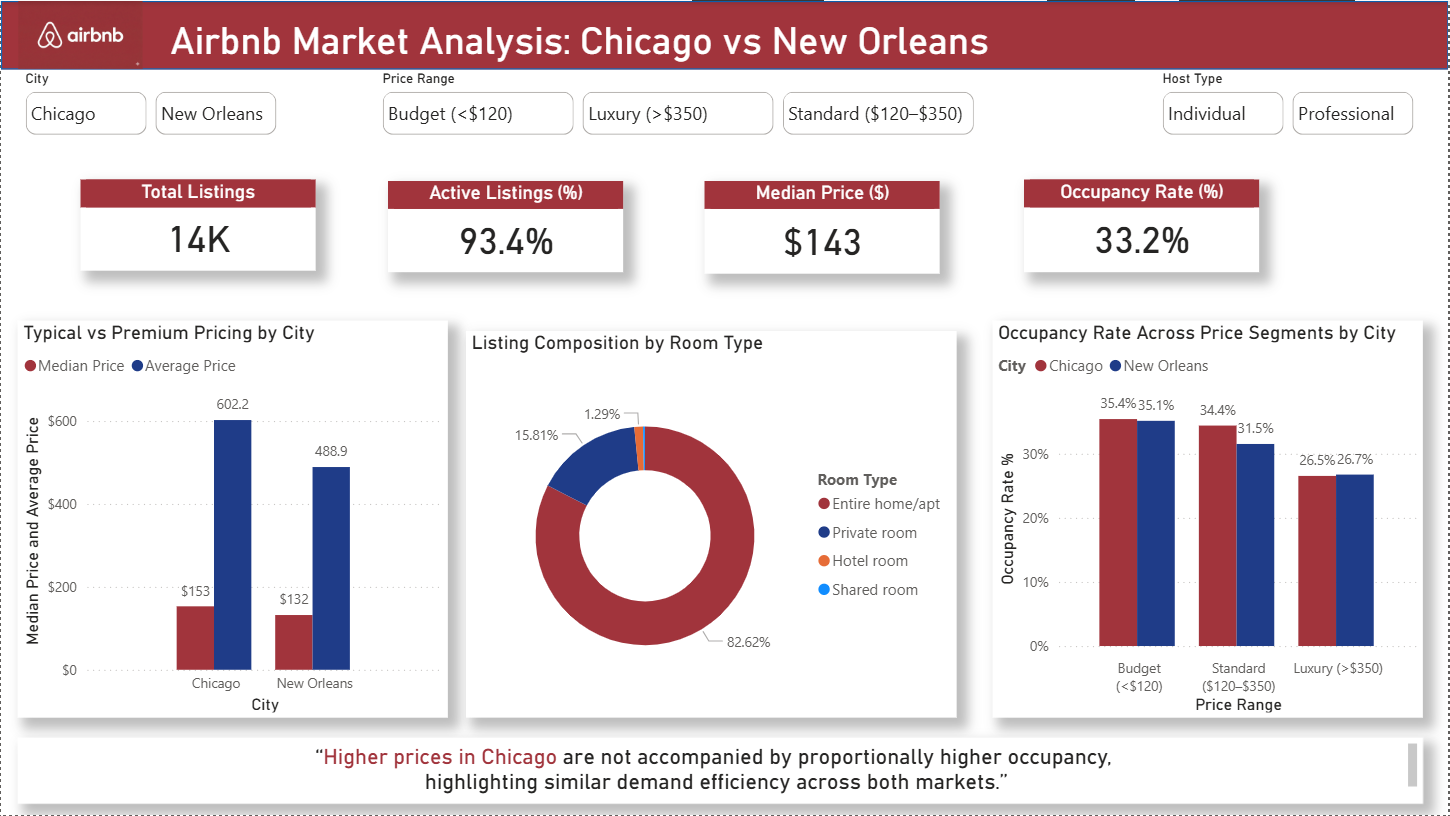

This screenshot's page, from the dashboard's own definition file:
{"tool":"powerbi","page":{"name":"01 - Market Overview","canvas":[1280,720],"ordinal":0},"visuals":[{"type":"clusteredColumnChart","title":"Typical vs Premium Pricing by City","fields":{"Category":["airbnb_clean_dataset.city"],"Y":["Kpi.Median Price","Kpi.Average Price"]},"box":[14.6,282.6,380.8,351.6],"z":0},{"type":"donutChart","title":"Listing Composition by Room Type","fields":{"Category":["airbnb_clean_dataset.room_type"],"Y":["Kpi.Total Listings"]},"box":[411.3,291.9,433.9,342.3],"z":1000},{"type":"clusteredColumnChart","title":"Occupancy Rate Across Price Segments by City","fields":{"Category":["airbnb_clean_dataset.Price Range"],"Series":["airbnb_clean_dataset.city"],"Y":["Kpi.Occupancy Rate %"]},"box":[877,282.6,380.8,351.6],"z":2000},{"type":"shape","box":[0,0,1280.2,60.6],"z":3000,"group":"g1"},{"type":"card","title":"Total Listings","fields":{"Values":["Kpi.Total Listings"]},"box":[70.3,157.9,208.3,80.9],"z":3000},{"type":"card","title":"Active Listings (%)","fields":{"Values":["Kpi.Active Listing %"]},"box":[342.3,159.2,208.3,80.9],"z":4000},{"type":"card","title":"Median Price ($)","fields":{"Values":["Kpi.Median Price"]},"box":[622.3,159.2,208.3,82.3],"z":5000},{"type":"card","title":"Occupancy Rate (%)","fields":{"Values":["Kpi.Occupancy Rate %"]},"box":[904.9,157.9,208.3,82.3],"z":6000},{"type":"group","id":"g1","title":"Group 1","box":[0,0,1280.2,59.9],"z":7000},{"type":"image","box":[14.6,0.6,111.1,59.9],"z":8000,"group":"g1"},{"type":"textbox","box":[144.7,10.2,838.9,49.7],"z":8000},{"type":"advancedSlicerVisual","fields":{"Values":["airbnb_clean_dataset.City"]},"box":[14.6,61,237.5,63.7],"z":9000},{"type":"advancedSlicerVisual","fields":{"Values":["airbnb_clean_dataset.Host Type"]},"box":[1020.3,61,237.5,63.7],"z":10000},{"type":"advancedSlicerVisual","fields":{"Values":["airbnb_clean_dataset.Price Range"]},"box":[330.4,61,537.4,63.7],"z":11000},{"type":"textbox","box":[14.6,651.5,1243.2,58.4],"z":12000}]}

Visuals, with their boxes in screenshot pixels (x1, y1, x2, y2), scaled from the page's 1280x720 canvas onto the 1450x816 screenshot:
"Typical vs Premium Pricing by City" clusteredColumnChart: bbox(17, 320, 448, 719)
"Listing Composition by Room Type" donutChart: bbox(466, 331, 957, 719)
"Occupancy Rate Across Price Segments by City" clusteredColumnChart: bbox(993, 320, 1425, 719)
shape: bbox(0, 0, 1449, 69)
"Total Listings" card: bbox(80, 179, 316, 271)
"Active Listings (%)" card: bbox(388, 180, 624, 272)
"Median Price ($)" card: bbox(705, 180, 941, 274)
"Occupancy Rate (%)" card: bbox(1025, 179, 1261, 272)
"Group 1" group: bbox(0, 0, 1449, 68)
image: bbox(17, 1, 142, 69)
textbox: bbox(164, 12, 1114, 68)
advancedSlicerVisual - airbnb_clean_dataset.City: bbox(17, 69, 286, 141)
advancedSlicerVisual - airbnb_clean_dataset.Host Type: bbox(1156, 69, 1425, 141)
advancedSlicerVisual - airbnb_clean_dataset.Price Range: bbox(374, 69, 983, 141)
textbox: bbox(17, 738, 1425, 805)
